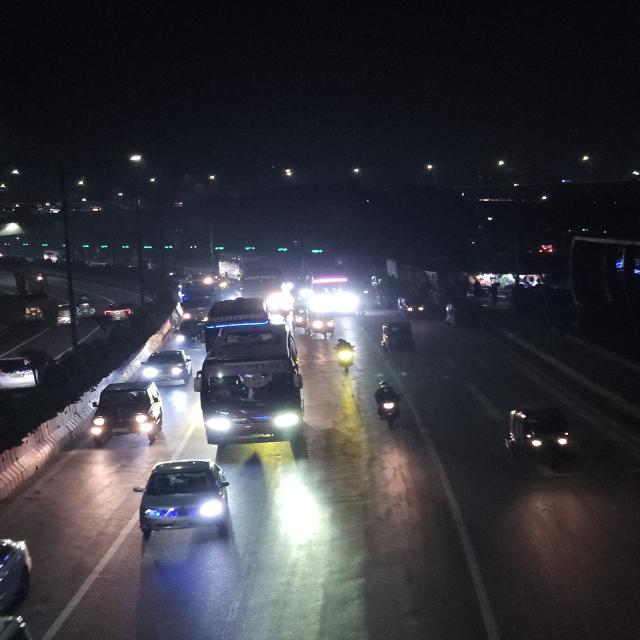bus: (196, 300, 309, 454), (224, 252, 284, 303), (301, 271, 359, 317)
car: (131, 456, 238, 540), (86, 378, 166, 447), (0, 344, 55, 393), (138, 348, 194, 387), (101, 299, 137, 325)
cng: (498, 400, 582, 474), (374, 321, 416, 352), (397, 296, 428, 319), (311, 315, 338, 340), (54, 301, 78, 325), (76, 294, 96, 318)
motorcycle: (369, 378, 407, 430), (331, 336, 360, 377)
pedestrian: (440, 298, 458, 325), (418, 280, 437, 302)
